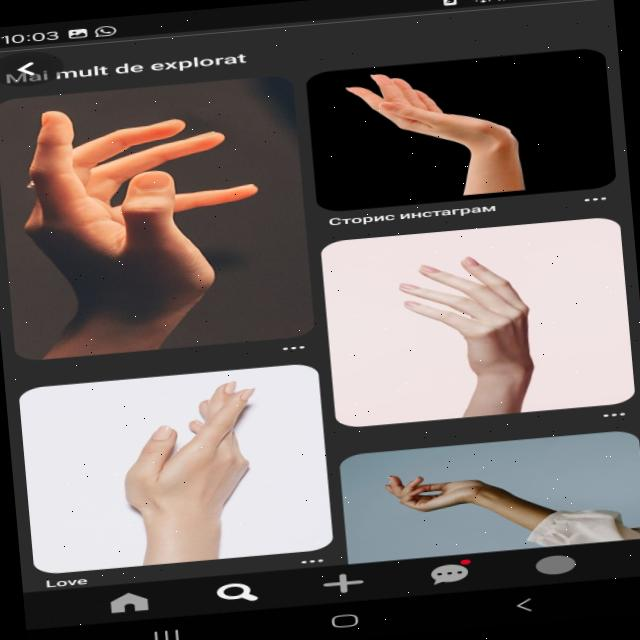hands: (4, 87, 282, 353), (93, 368, 320, 568), (391, 222, 614, 414), (332, 62, 576, 204), (380, 449, 572, 538)
